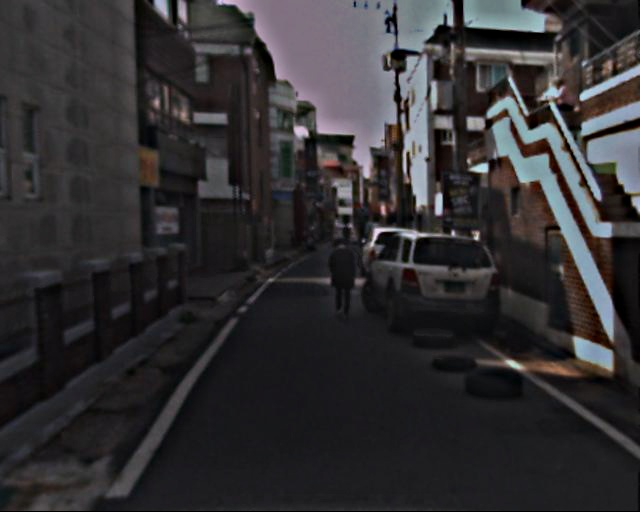person: (322, 233, 359, 324)
